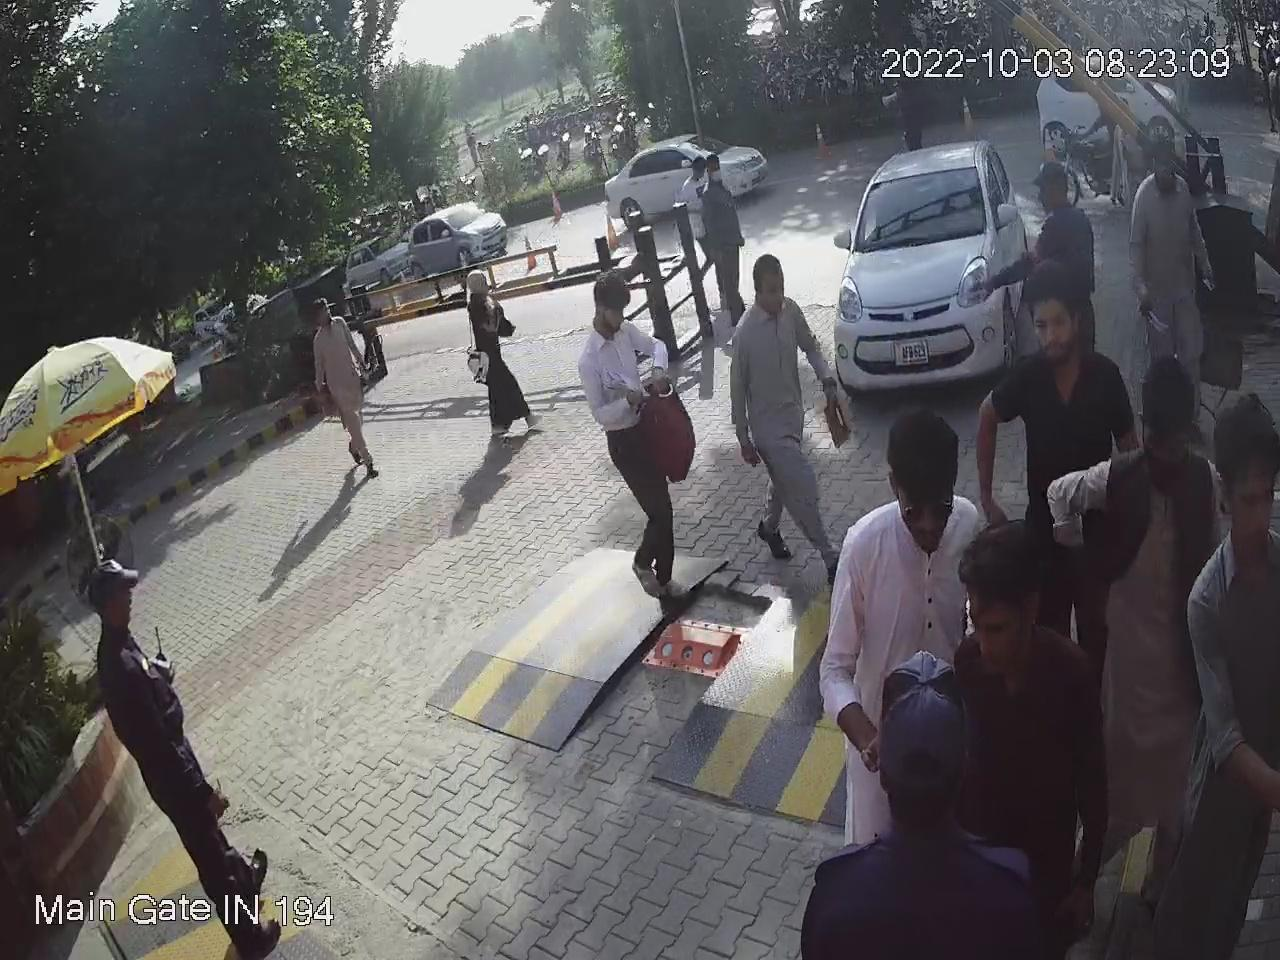windshield: (856, 157, 991, 252)
